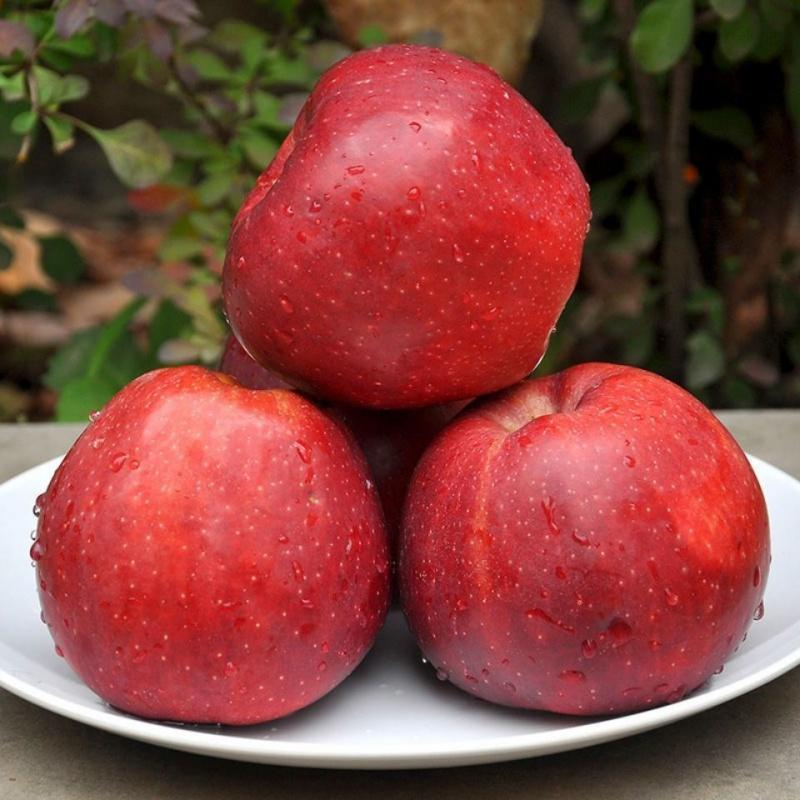apple: (220, 43, 594, 416), (399, 362, 770, 720), (28, 366, 389, 724)
